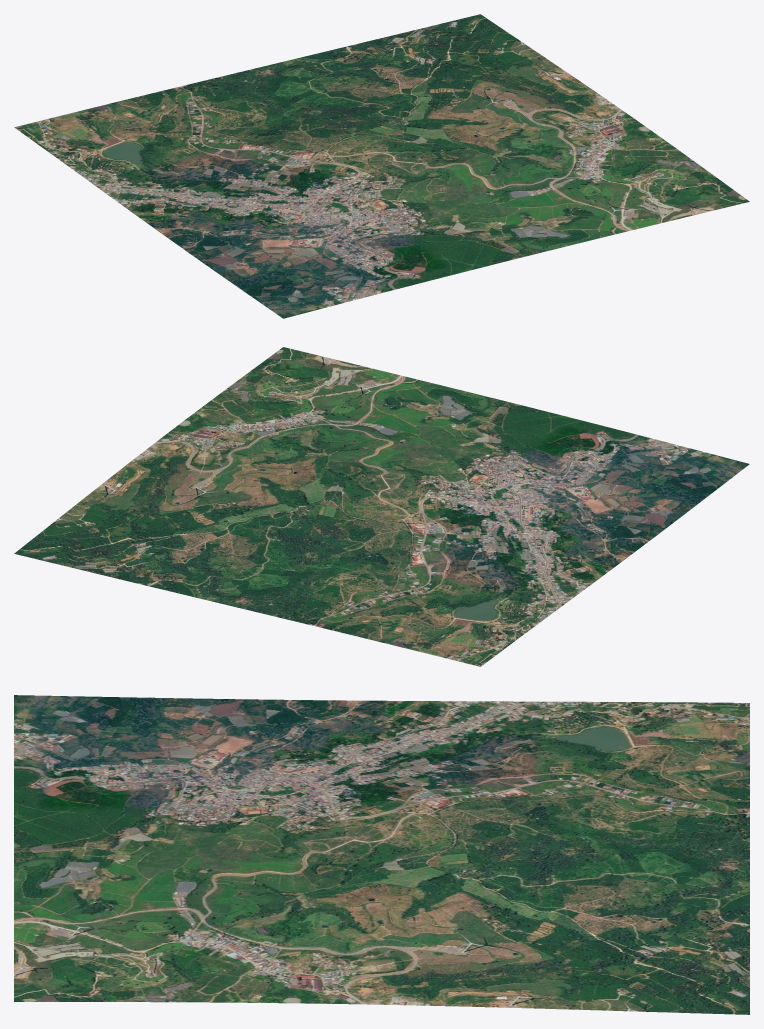
Rendered from terrain_real_T_E06_S03.glb.
3 views of the same model, one above another, from view 1: azimuth 30°, elevation 25°; view 2: azimuth 150°, elevation 25°; view 3: azimuth 270°, elevation 25° (orthographic). The views are drawn at different scales.
Visible parts, largest first — view 1: Terrain_Real_DEM_T_E06_S03; view 2: Terrain_Real_DEM_T_E06_S03; view 3: Terrain_Real_DEM_T_E06_S03.
Boxes of the visible parts, <box> form: Terrain_Real_DEM_T_E06_S03: <box>14,14,749,318</box>; Terrain_Real_DEM_T_E06_S03: <box>14,347,749,666</box>; Terrain_Real_DEM_T_E06_S03: <box>14,695,749,1014</box>.
Size of the model in its own units: 2000 by 64.46 by 2000.
Materials: 1 (1 with a texture image).
